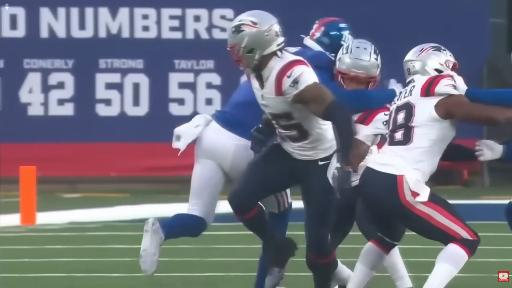Helmet: (228, 11, 284, 69), (335, 39, 380, 88), (304, 18, 352, 57), (404, 44, 458, 78)
Jersey: (368, 75, 459, 183), (249, 52, 336, 159), (286, 48, 395, 112), (351, 108, 389, 186), (212, 81, 262, 140)
Player: (348, 44, 511, 287), (228, 11, 352, 287), (140, 83, 261, 274), (331, 107, 389, 247), (331, 107, 389, 246), (476, 140, 511, 162)
